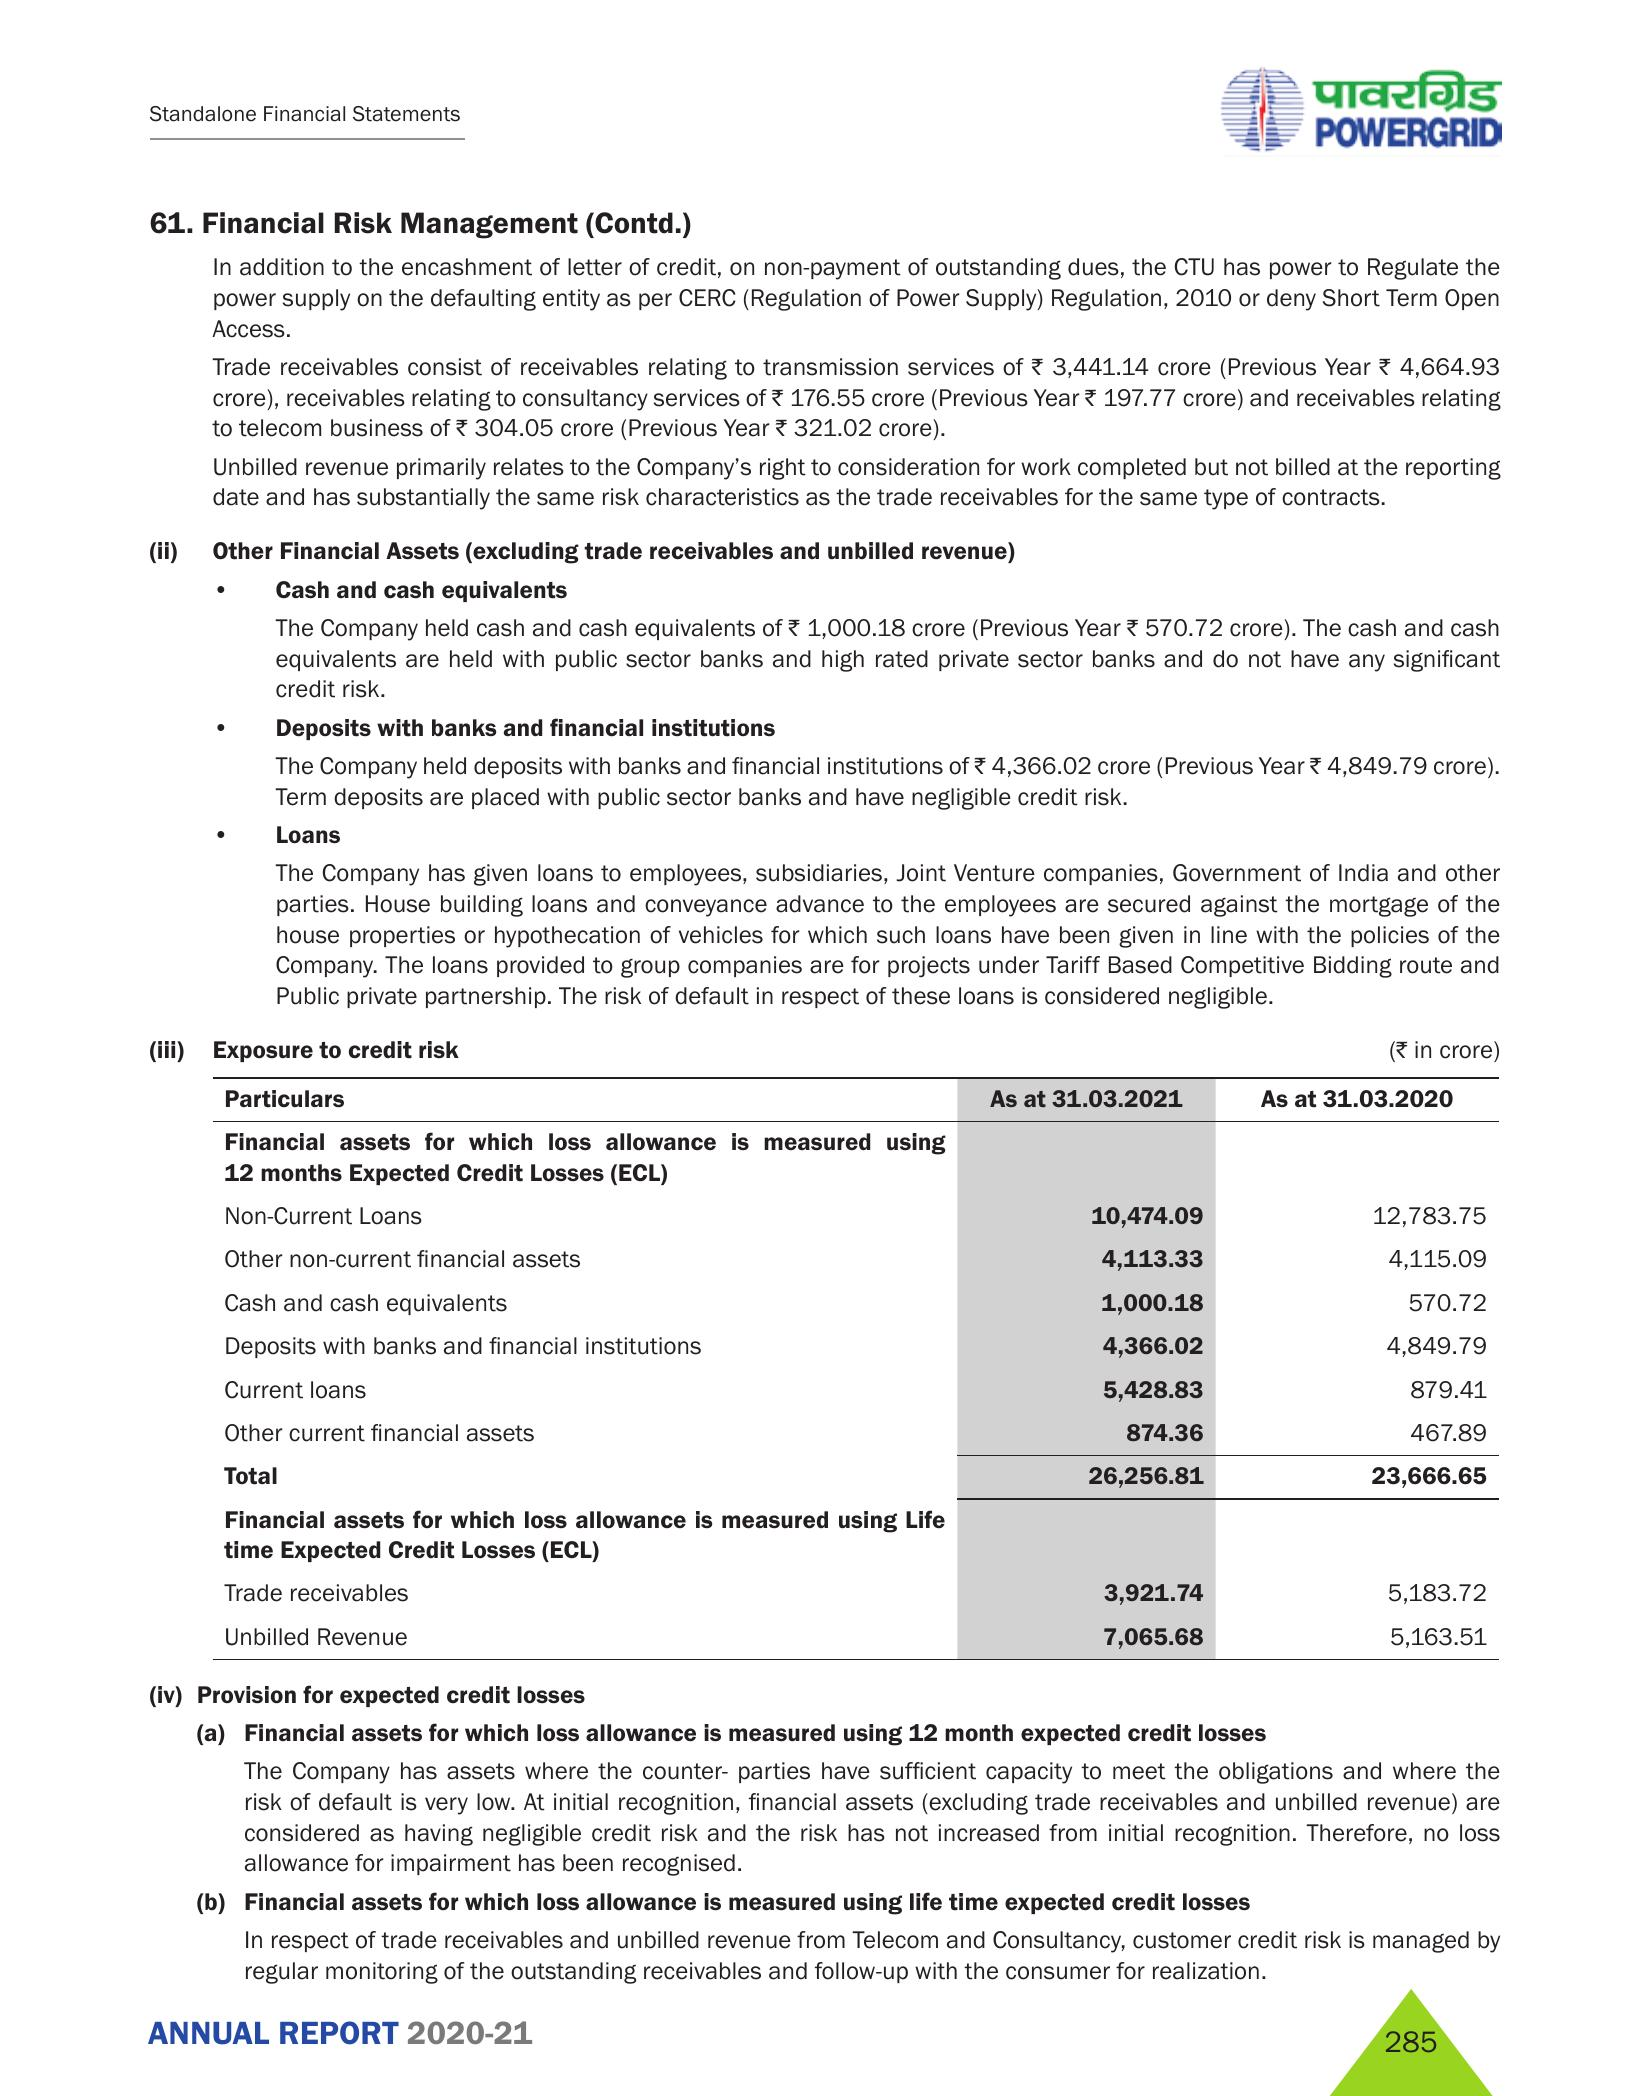Footer: (0, 1979, 1650, 2096)
Header: (0, 0, 1650, 175)
Table: (172, 1075, 1499, 1667)
